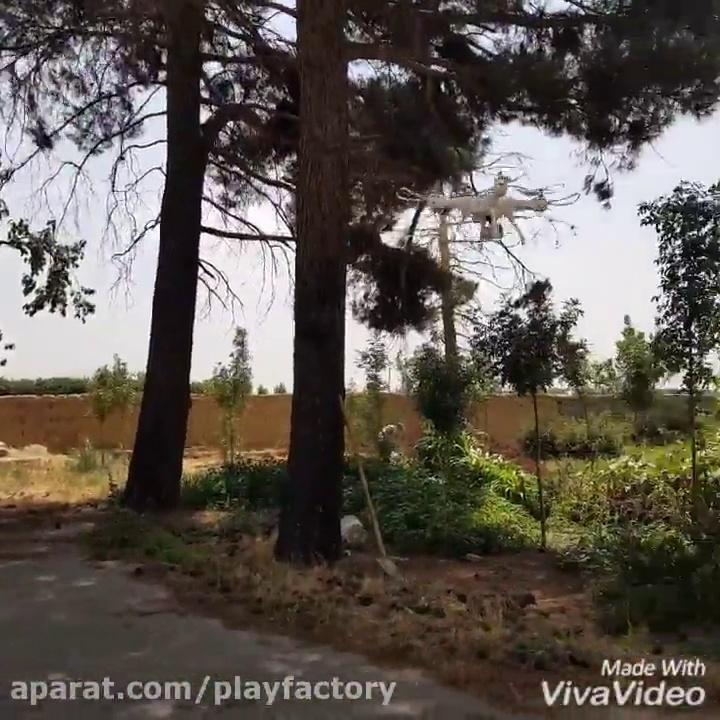drone: (395, 171, 581, 243)
